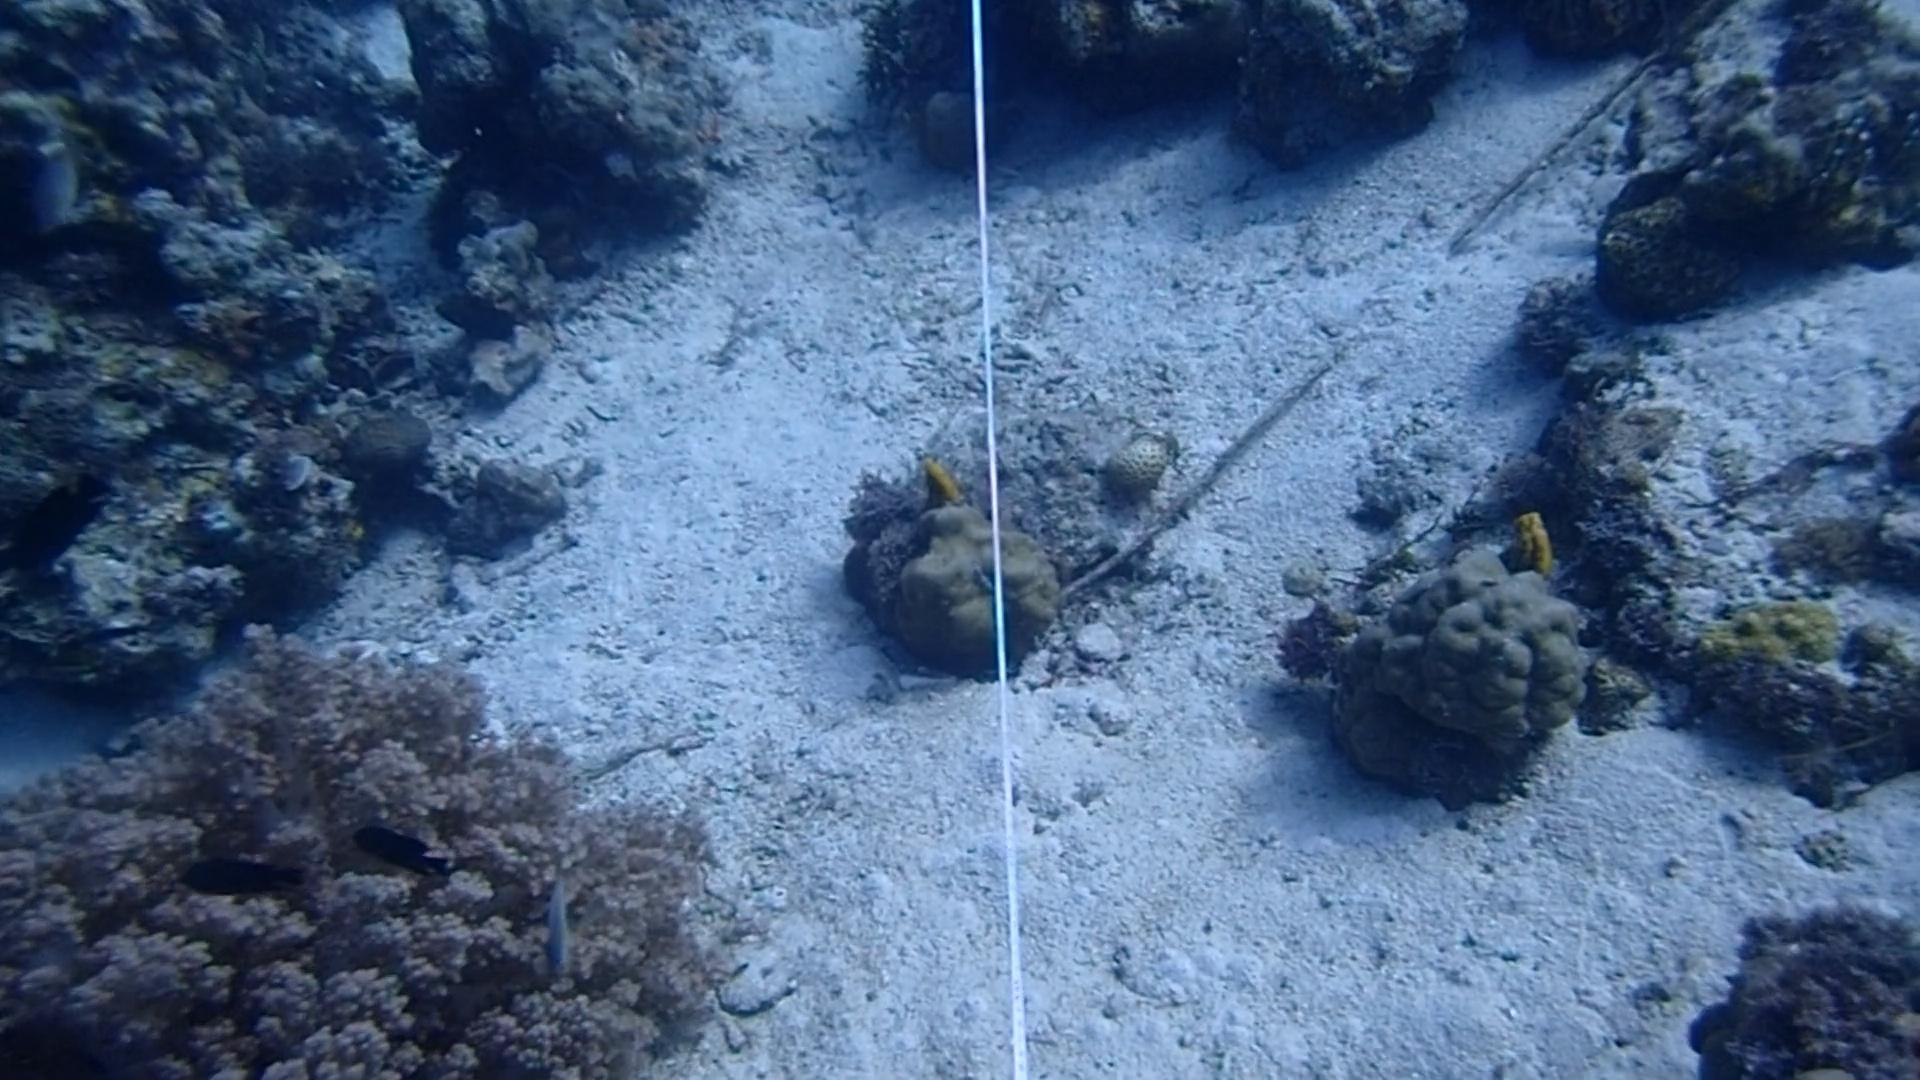Dark Fish: (3, 475, 111, 582), (165, 836, 302, 914), (345, 814, 472, 890)
Light Fish: (15, 127, 98, 252), (530, 865, 588, 980)
